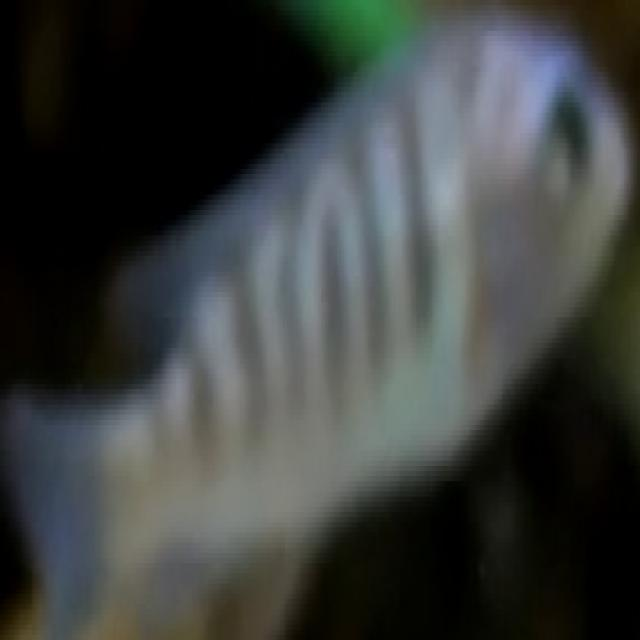fish: (0, 5, 638, 640)
